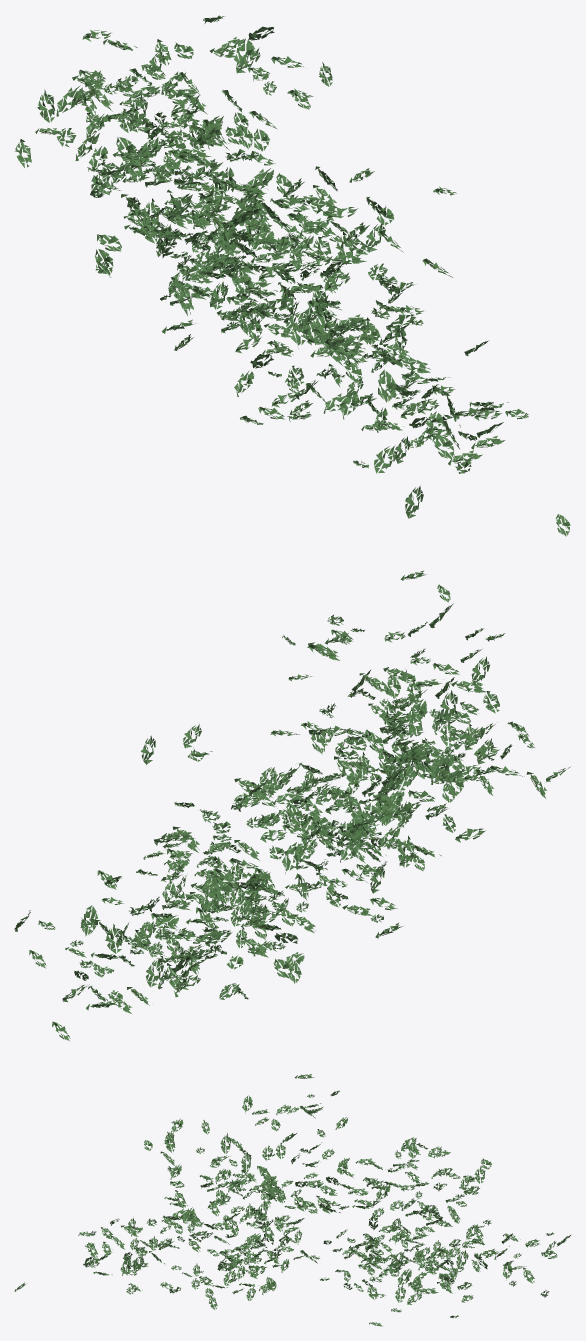
Rendered from holy_canopy7_real.glb.
3 views of the same model, one above another, from view 1: azimuth 30°, elevation 25°; view 2: azimuth 150°, elevation 25°; view 3: azimuth 270°, elevation 25° (orthographic). The views are drawn at different scales.
Visible parts, largest first — view 1: holy_canopy7; view 2: holy_canopy7; view 3: holy_canopy7.
Boxes of the visible parts, bbox=[...] form: holy_canopy7: bbox=[14, 15, 570, 536]; holy_canopy7: bbox=[14, 570, 569, 1040]; holy_canopy7: bbox=[14, 1074, 571, 1326].
Size of the model in its own units: 10 by 12.6 by 30.85.
Materials: 1 (1 with a texture image).
